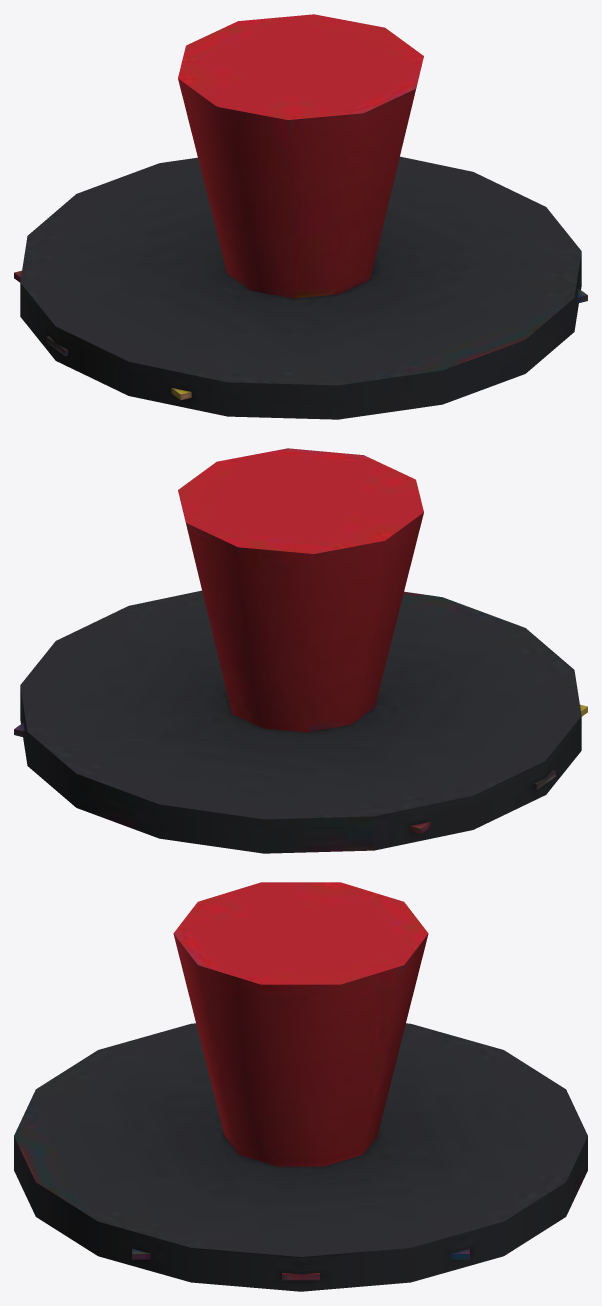
File: placa_mina.glb
3 views of the same model, one above another, from view 1: azimuth 30°, elevation 25°; view 2: azimuth 150°, elevation 25°; view 3: azimuth 270°, elevation 25° (orthographic).
Visible parts, largest first — view 1: placa_mina; view 2: placa_mina; view 3: placa_mina.
Boxes of the visible parts, box(x1,y1,x2,y2) form: placa_mina: box(14, 14, 587, 419); placa_mina: box(14, 448, 587, 853); placa_mina: box(14, 882, 587, 1291).
Bounding box in the file's own units: 0.9 × 0.41 × 0.9.
Materials: 1 (1 with a texture image).
